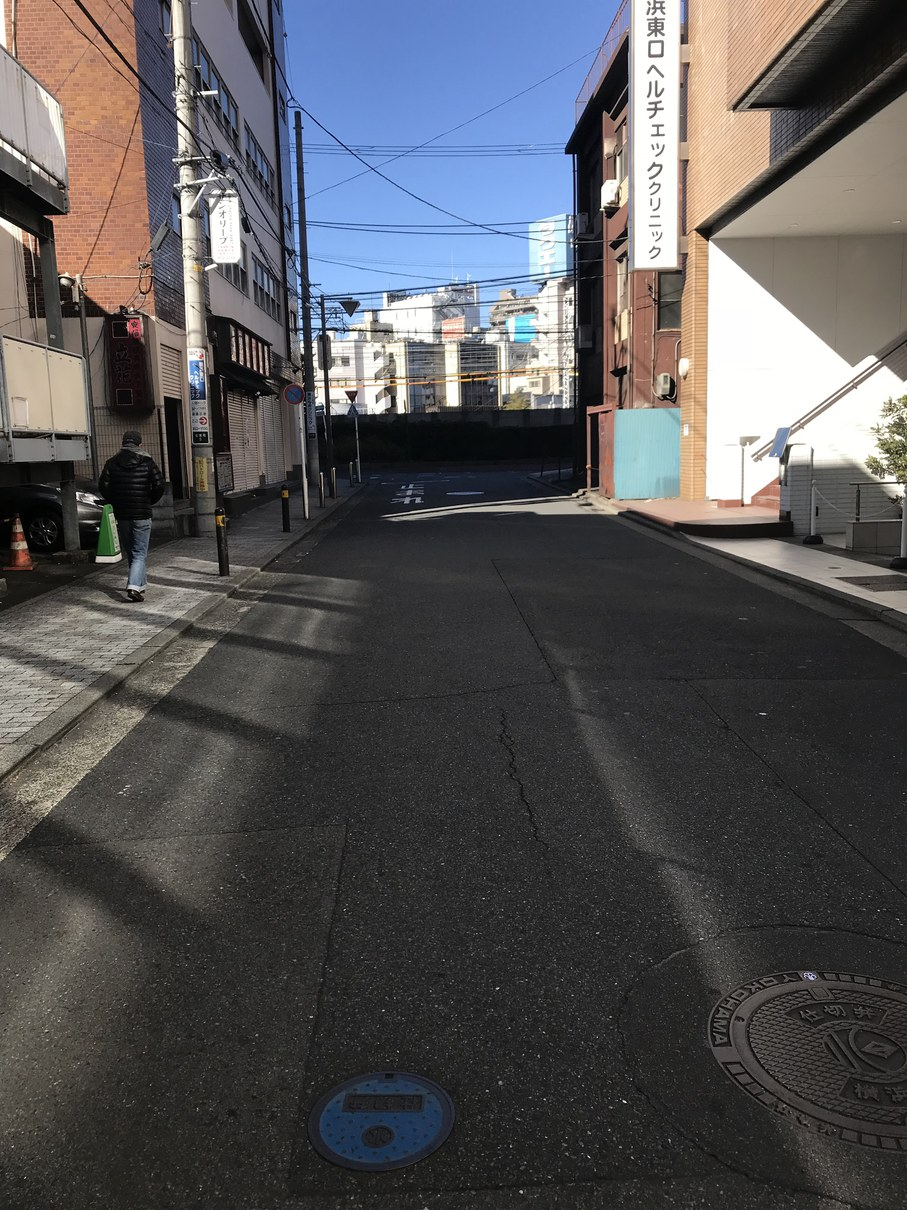stop_sign: (344, 388, 359, 403)
